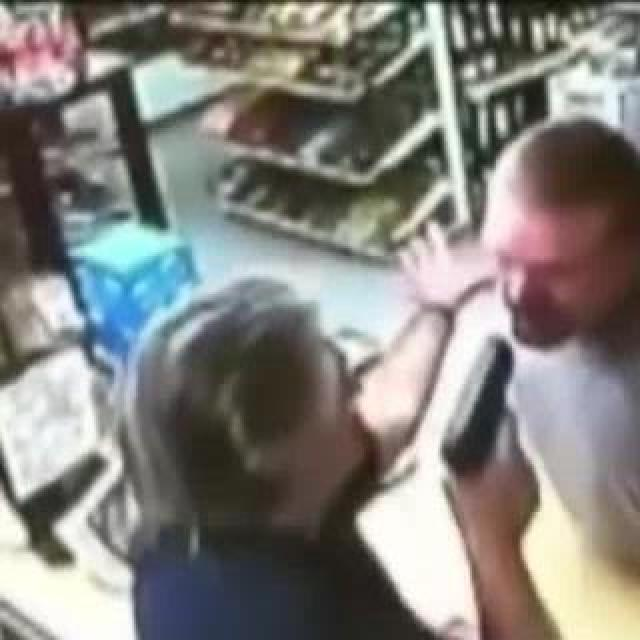Guns: (432, 323, 543, 507)
